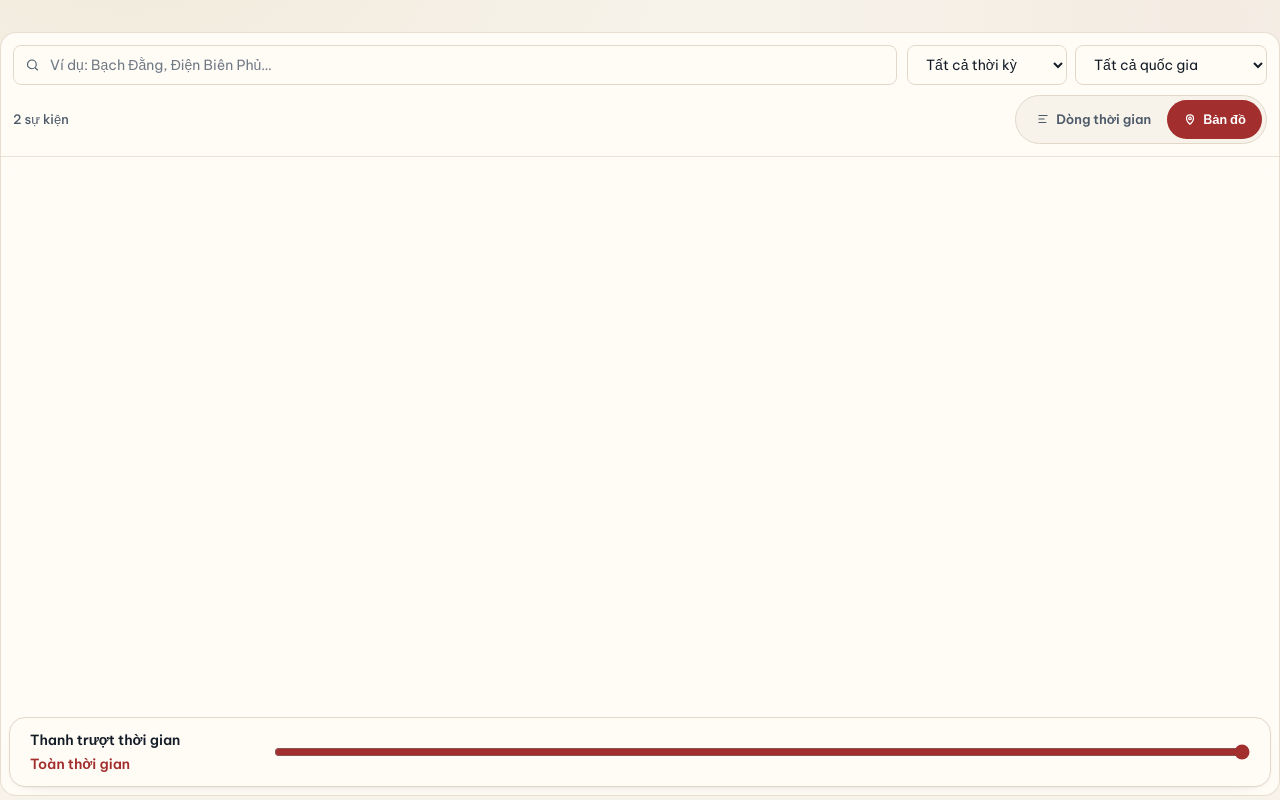
it: bộ lọc ngay trên bản đồ › ẩn thẻ lọc phía trên khi đang xem bản đồ để không lặp bộ lọc
Click the button "Dòng thời gian". click: click(1094, 119)
box: [1020,100,1167,139]
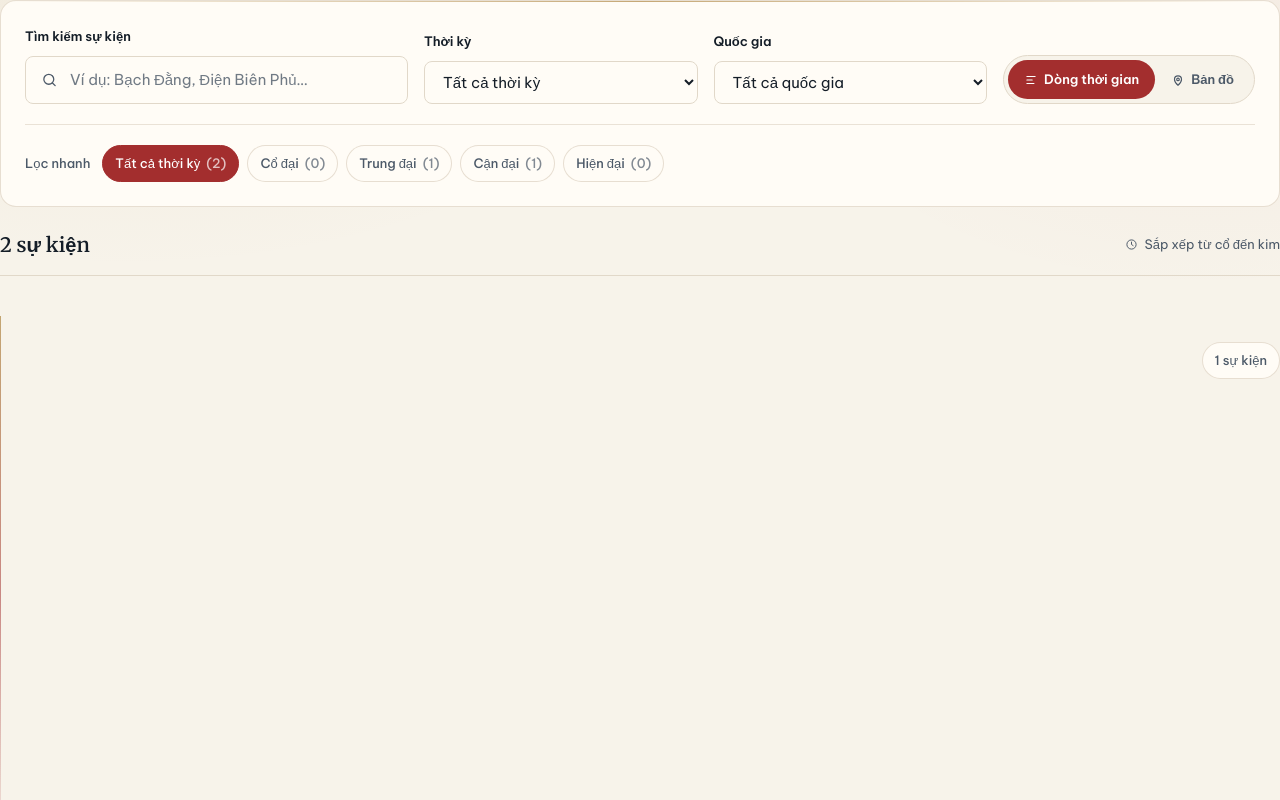
Expected: the search field with id "timeline-search" is shown, [25,56,408,104]
Expected: the search field with id "map-search" is gone
